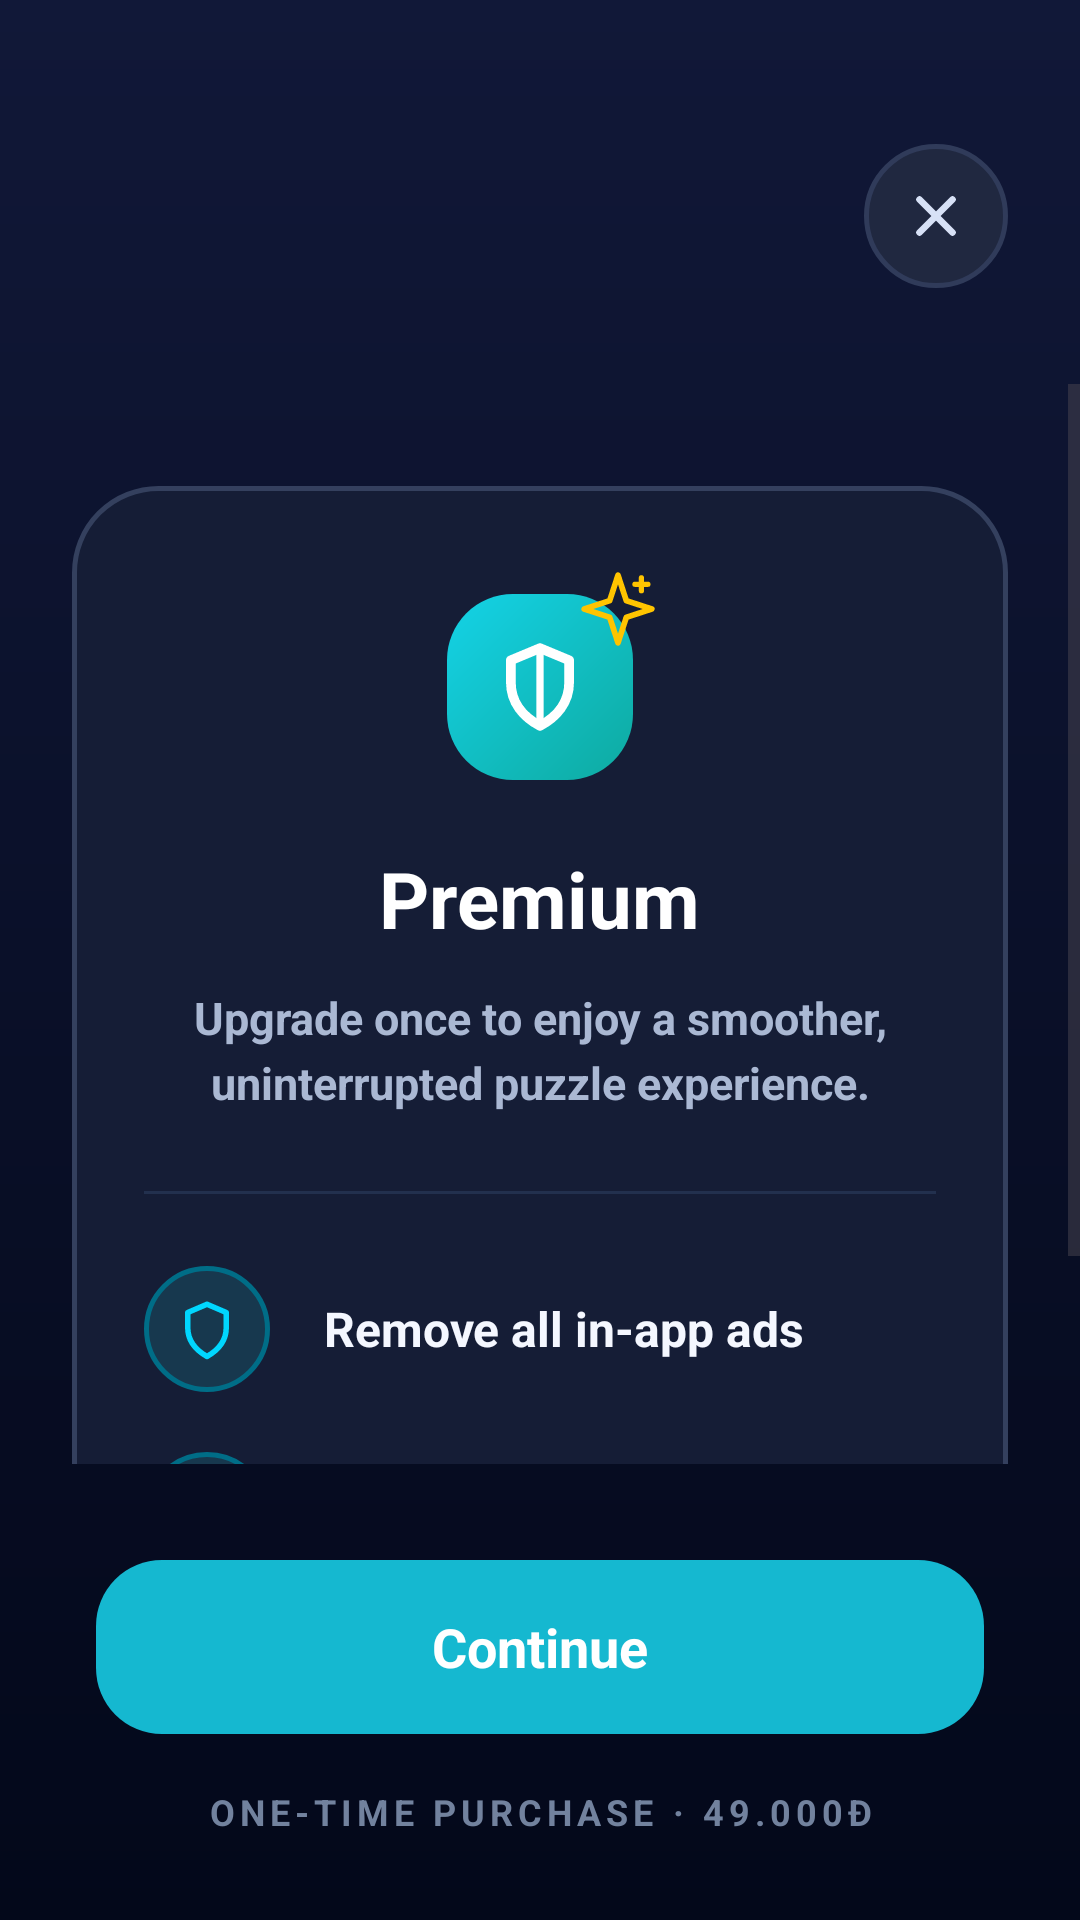

Screen size 1080 × 1920. Icon name, then its center in pixels as (x=x, y=y):
shield: (x=540, y=687), (x=207, y=1330)
sparkle: (x=617, y=610)
